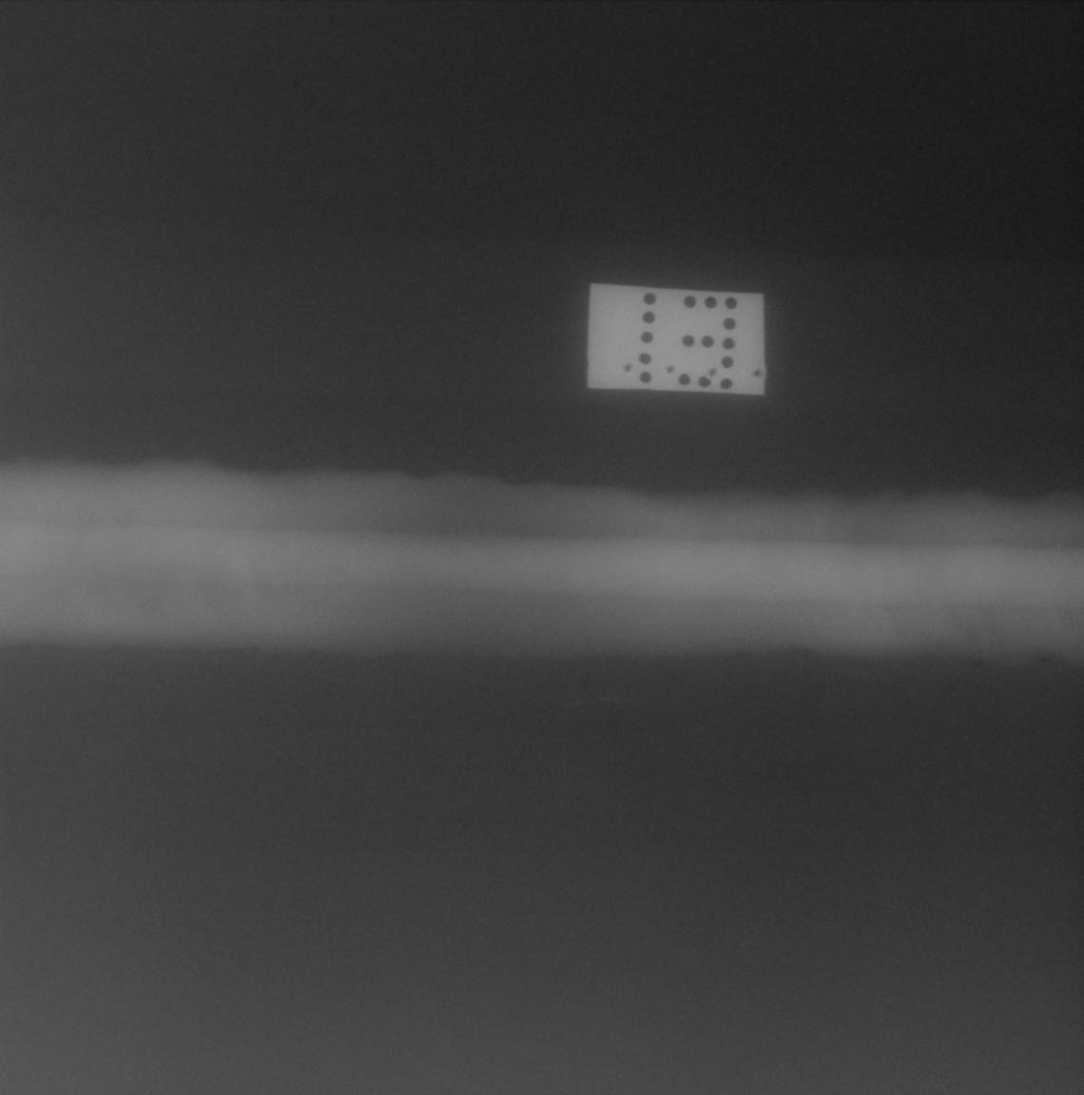Undercut: (1038, 660, 1049, 664), (973, 663, 984, 667)
